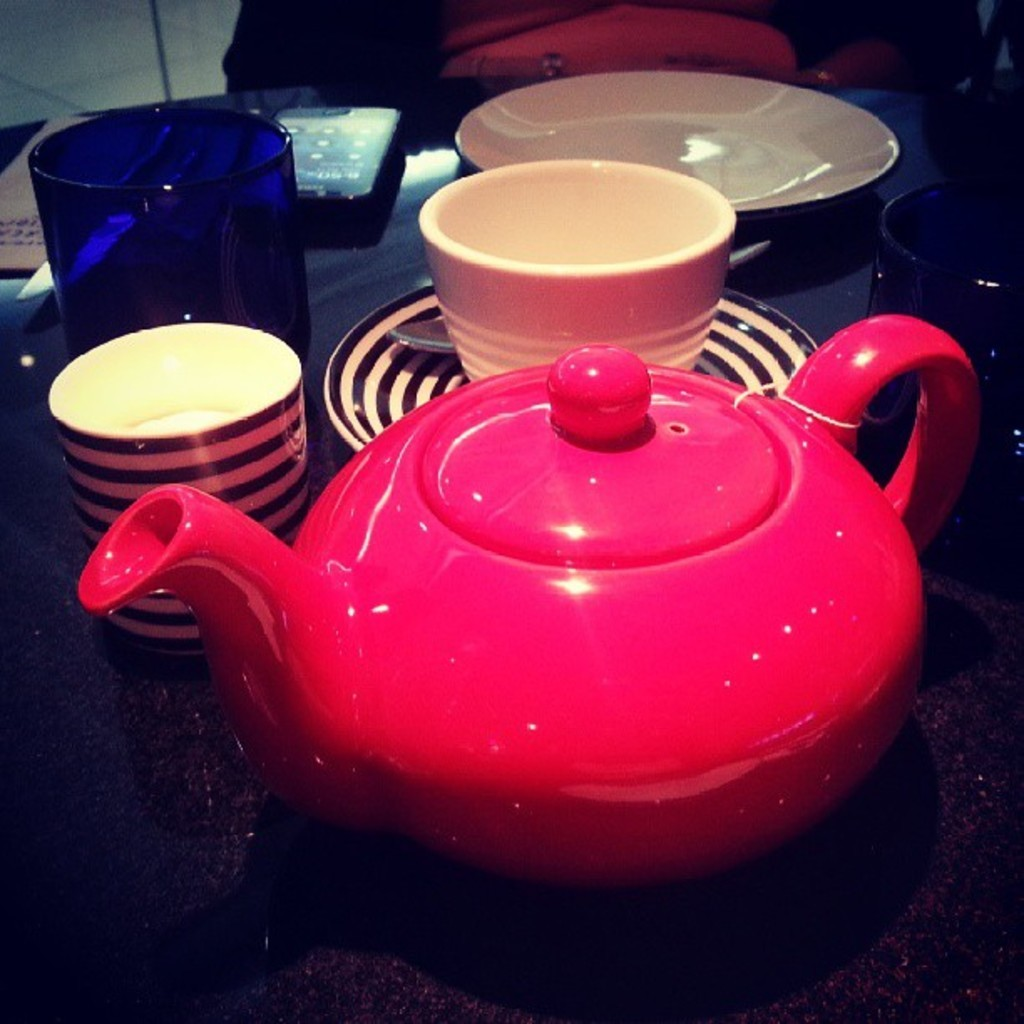teapot: (78, 313, 979, 891)
